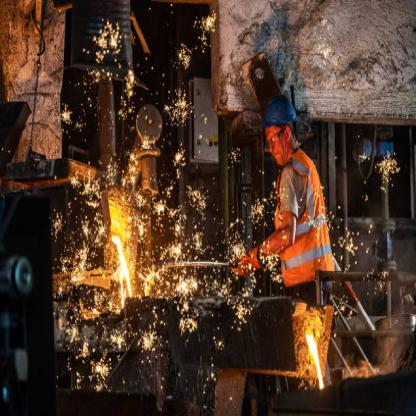capacete: (260, 88, 298, 134)
oculos: (263, 129, 284, 149)
